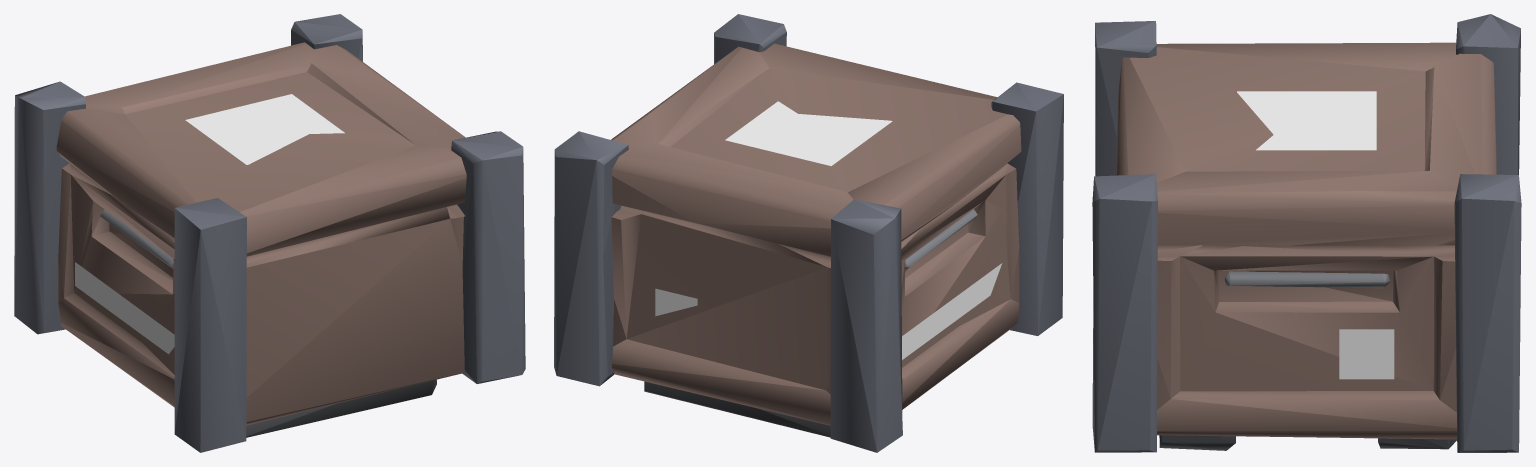
Rendered from caisse_s_c.glb.
3 renders of one model, left to right at view 1: azimuth 30°, elevation 25°; view 2: azimuth 150°, elevation 25°; view 3: azimuth 270°, elevation 25°, orthographic. The views are drawn at different scales.
Visible parts, largest first — view 1: caisse_s_c, caisse_s_c_decal; view 2: caisse_s_c, caisse_s_c_decal; view 3: caisse_s_c, caisse_s_c_decal.
Part boxes in pixels (<box>): caisse_s_c: <box>14,14,525,452</box>; caisse_s_c_decal: <box>75,94,344,354</box>; caisse_s_c: <box>554,14,1063,452</box>; caisse_s_c_decal: <box>655,101,1002,359</box>; caisse_s_c: <box>1092,14,1521,452</box>; caisse_s_c_decal: <box>1237,91,1394,379</box>.
Bounding box in the file's own units: 0.6348 × 0.4689 × 0.6276.
